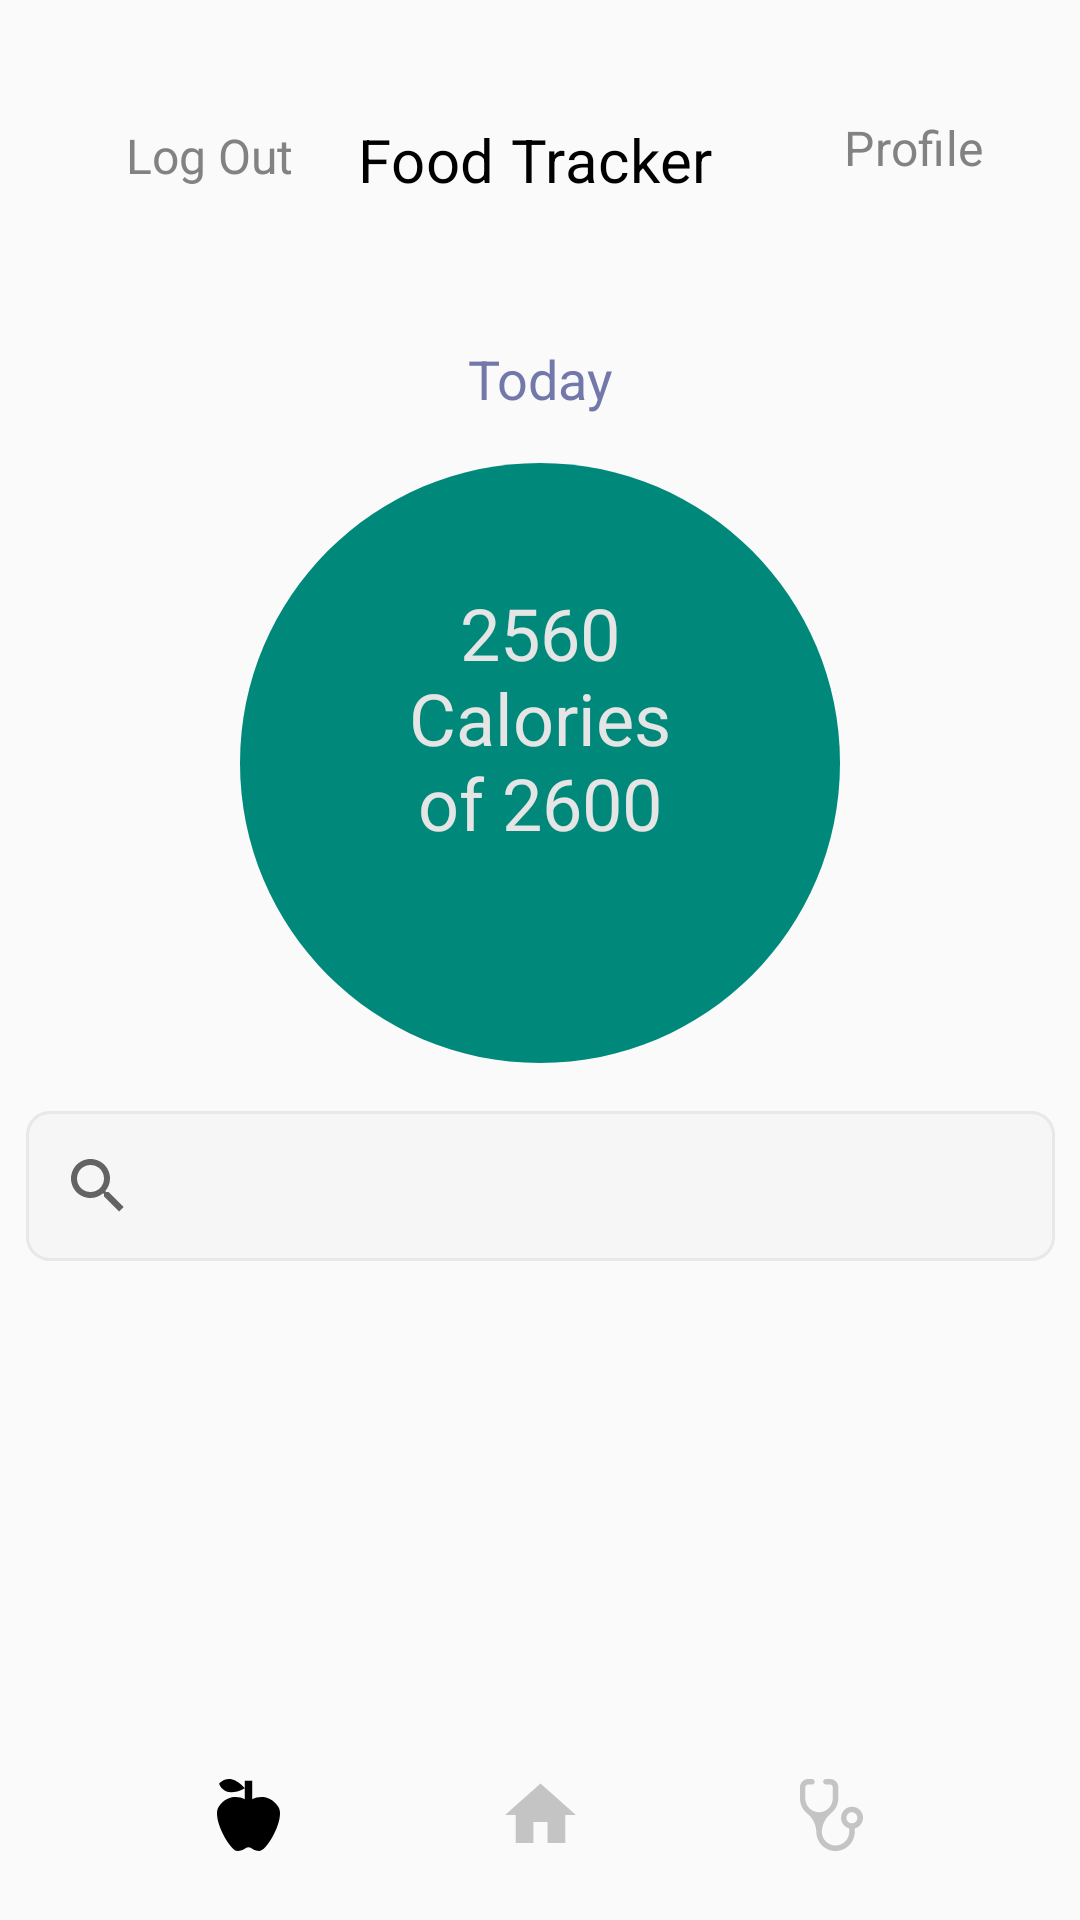

Screen size 1080*1920. Icon name, then its box in pixels as (x1, y1, x2, y2):
Find a Doctor: (800, 1779, 863, 1851)
Food Tracker: (217, 1779, 280, 1851)
Home: (506, 1784, 575, 1843)
